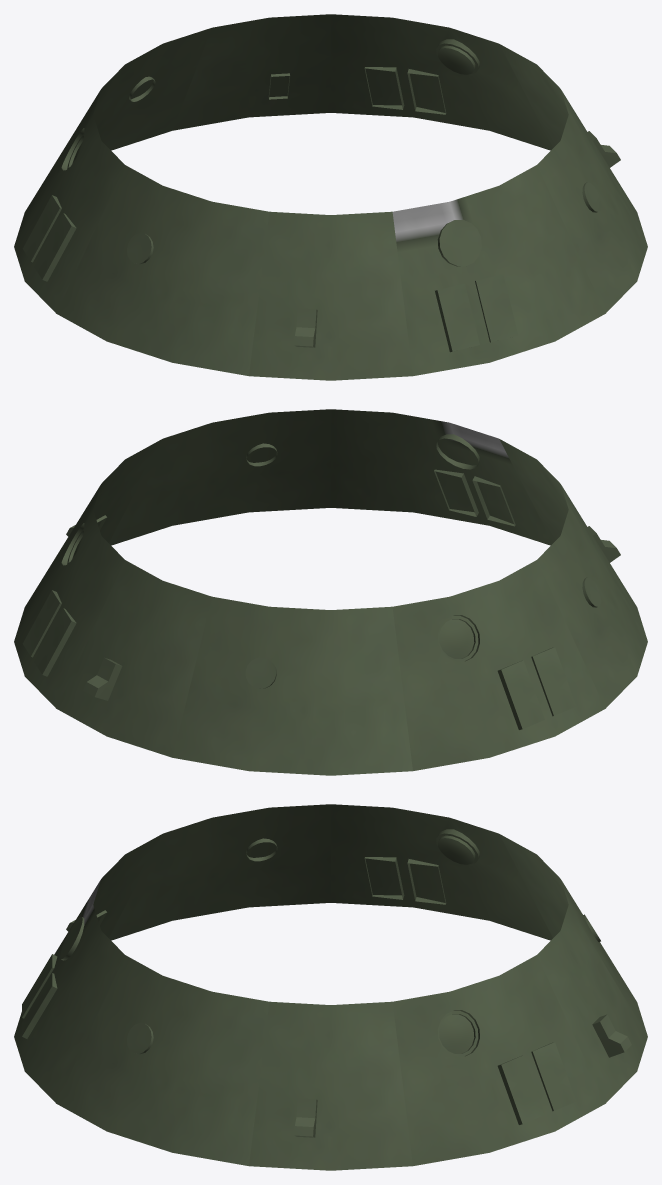
File: crew_s2.fbx
3 renders of one model, top to bottom at view 1: azimuth 30°, elevation 25°; view 2: azimuth 150°, elevation 25°; view 3: azimuth 270°, elevation 25°, orthographic.
Parts seen in each view (by area): view 1: mesh, window; view 2: mesh, window; view 3: mesh, window.
Boxes of the visible parts, x1,y1,x2,y2 form: mesh: (14, 14, 647, 380); window: (72, 48, 473, 163); mesh: (14, 409, 647, 775); window: (72, 537, 474, 658); mesh: (14, 804, 647, 1170); window: (437, 838, 474, 1053).
Bounding box in the file's own units: 2.5 × 0.575 × 2.5.
